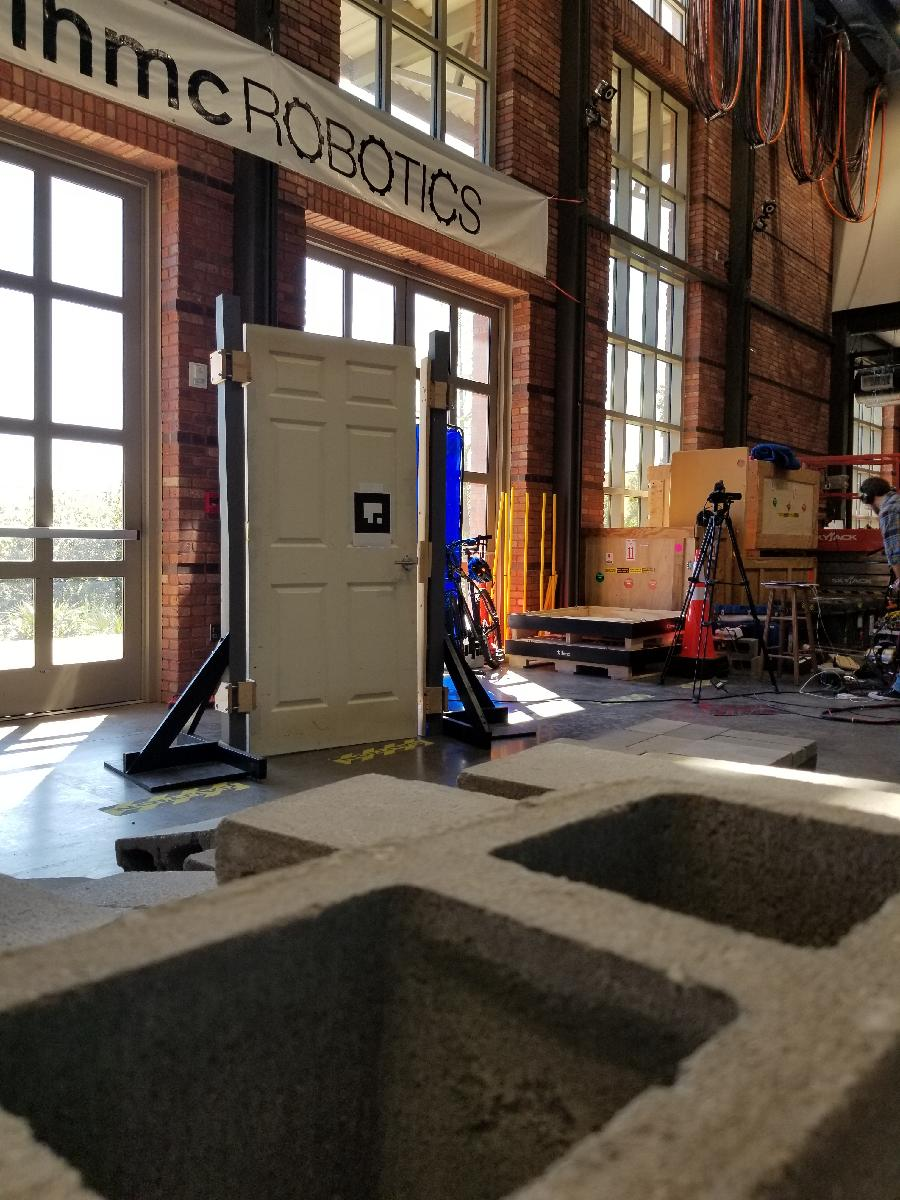door: (238, 319, 425, 763)
doorHandle: (397, 554, 423, 575)
